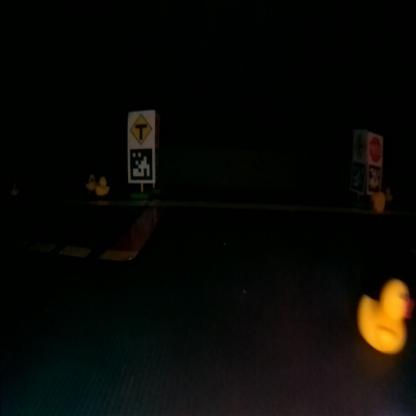Duckie: (358, 280, 414, 348), (96, 178, 110, 194), (376, 190, 386, 212), (88, 174, 94, 190), (12, 183, 18, 191), (386, 188, 390, 197)
Intersection sign: (131, 113, 153, 144), (354, 132, 366, 158)
QR code: (131, 148, 153, 180), (352, 162, 366, 192), (369, 166, 382, 188)
Stop sign: (370, 135, 382, 161)
